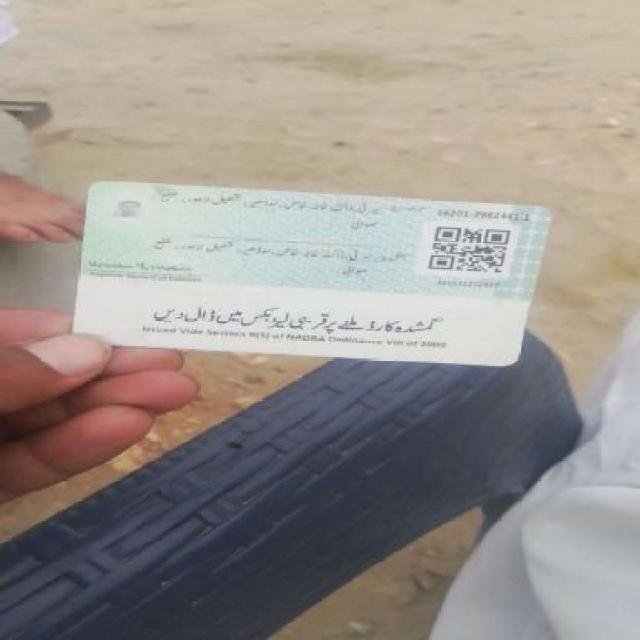Back: (63, 181, 562, 377)
